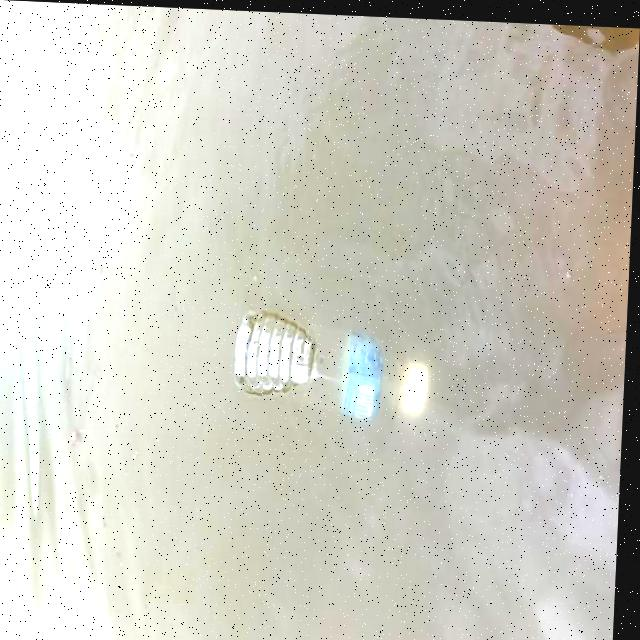waterbottle: (235, 301, 459, 445)
